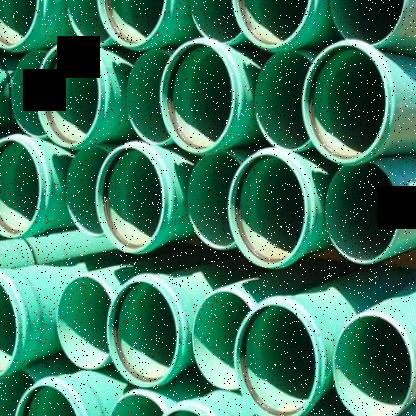pipe: (301, 43, 388, 163), (234, 301, 320, 416), (228, 153, 307, 267), (160, 40, 235, 154), (332, 313, 414, 416), (106, 280, 181, 388), (95, 144, 166, 253), (326, 162, 400, 264), (35, 42, 101, 148), (192, 291, 252, 390), (254, 50, 310, 152), (56, 275, 112, 369), (187, 152, 237, 250), (126, 49, 172, 146), (0, 138, 43, 239), (65, 144, 110, 238), (230, 0, 313, 50), (330, 0, 406, 45), (96, 0, 167, 48), (11, 50, 49, 138), (13, 381, 81, 416), (190, 0, 243, 43), (0, 271, 20, 379), (0, 0, 40, 50), (68, 0, 112, 45), (0, 369, 39, 416), (108, 391, 165, 416), (152, 408, 214, 416)
